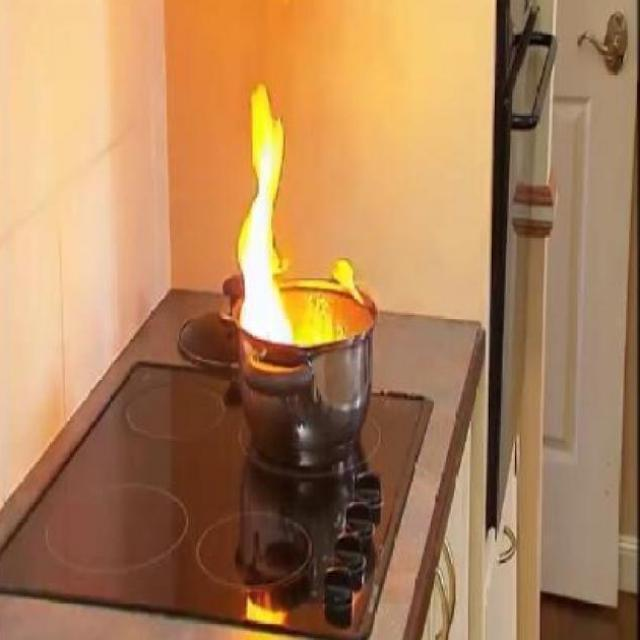smoke: (226, 76, 300, 350)
